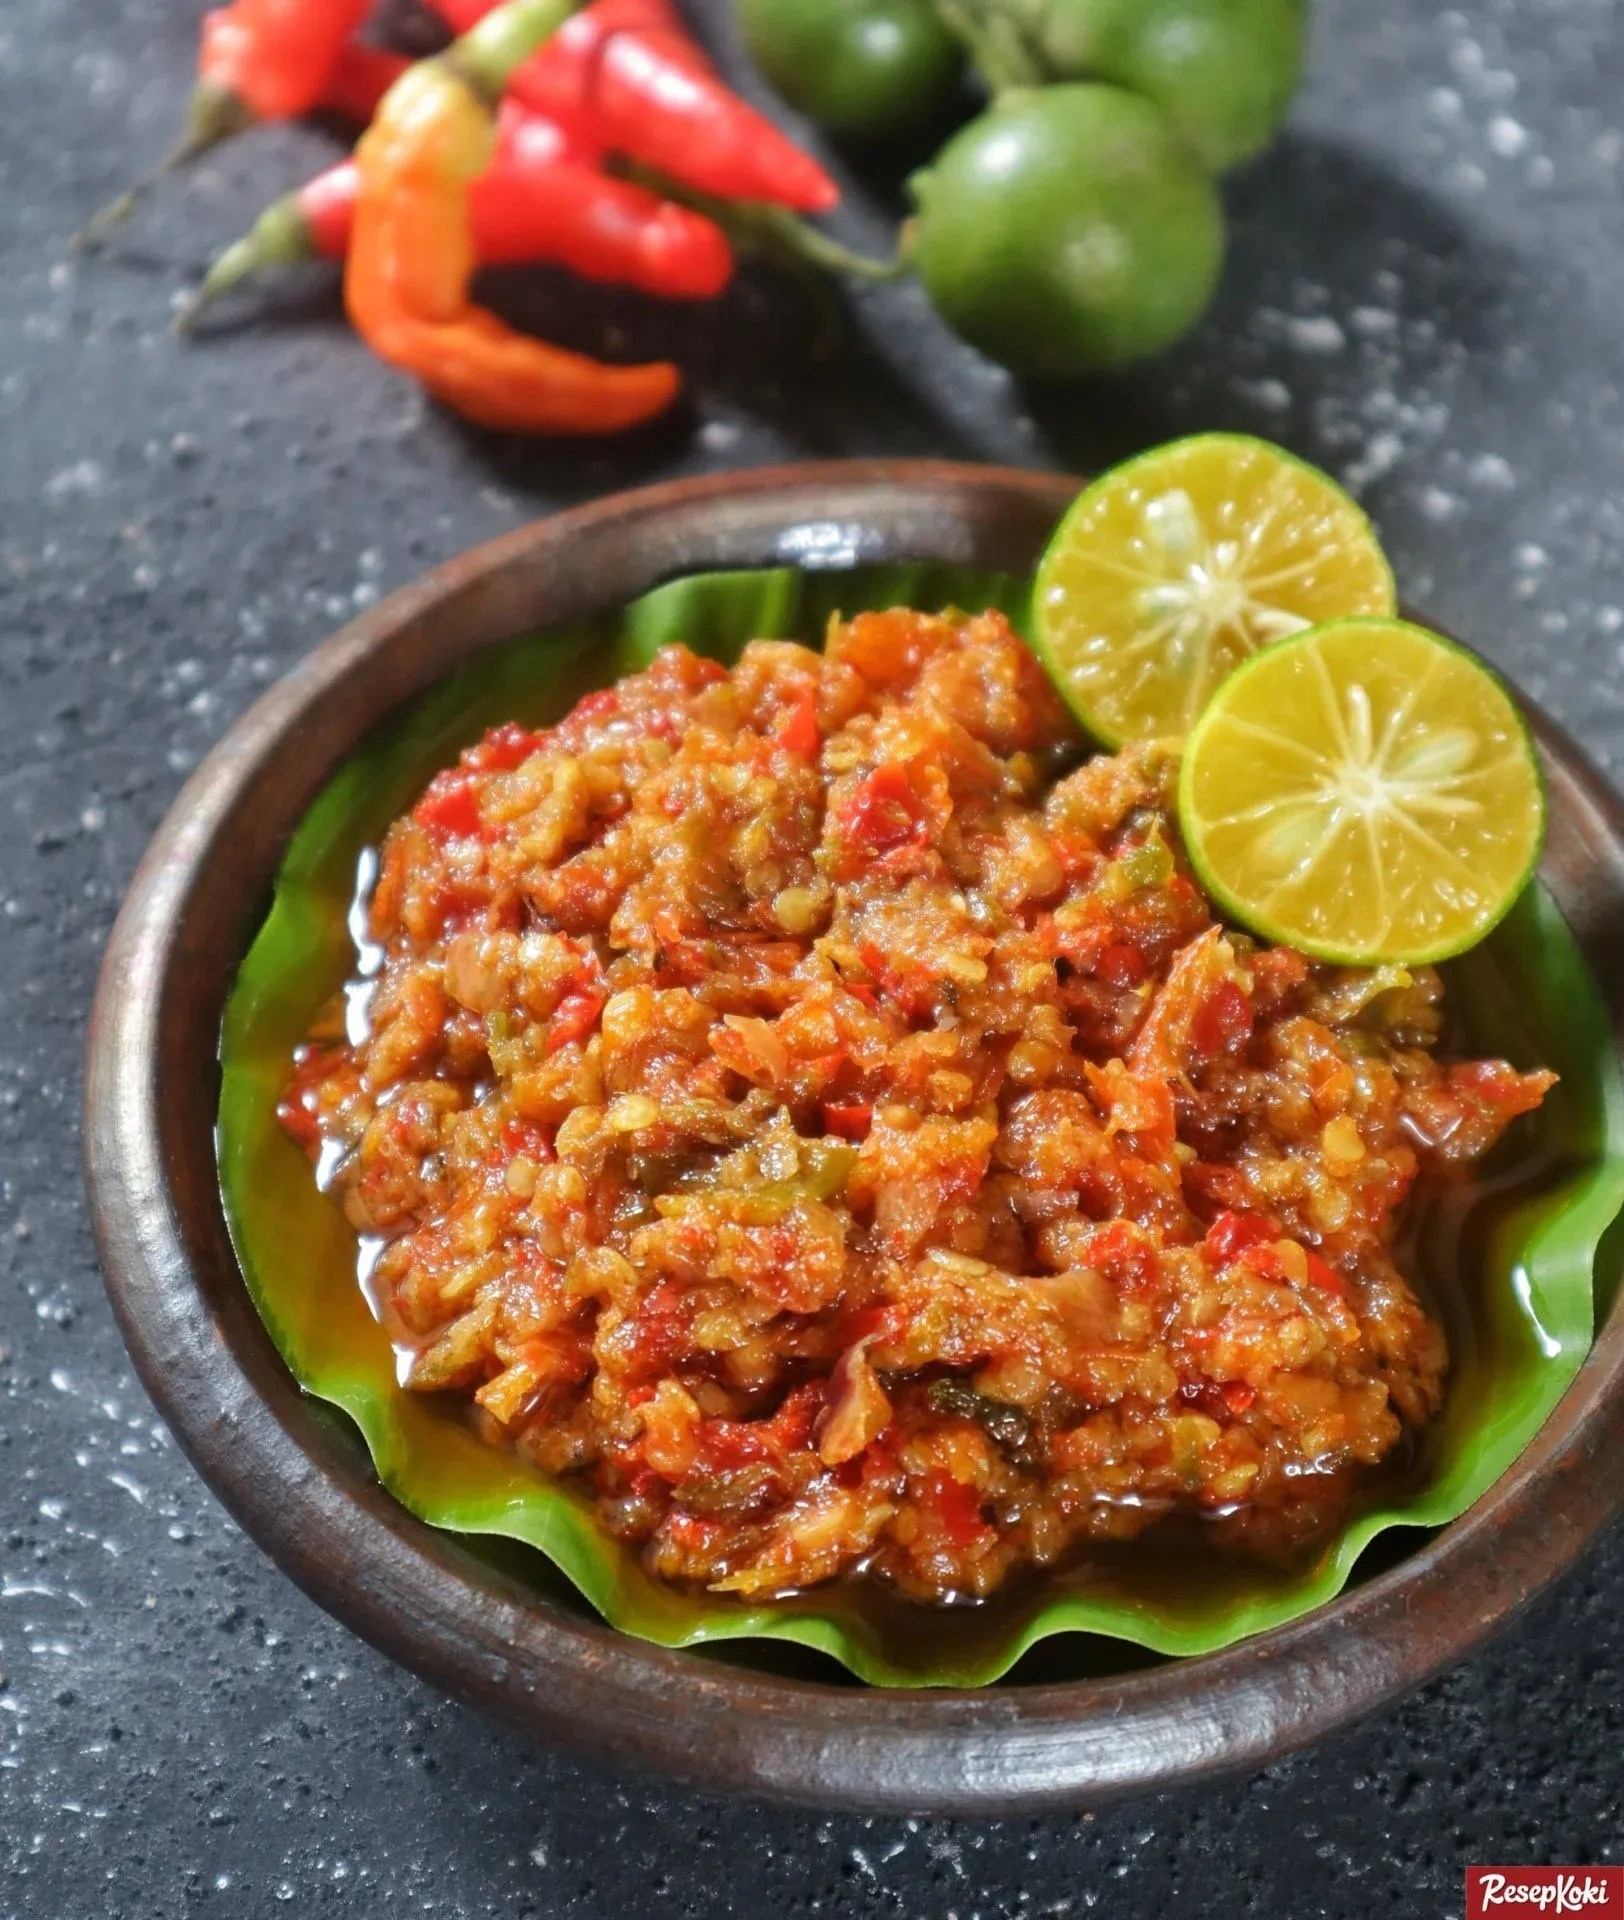sambal: (301, 615, 1469, 1601)
